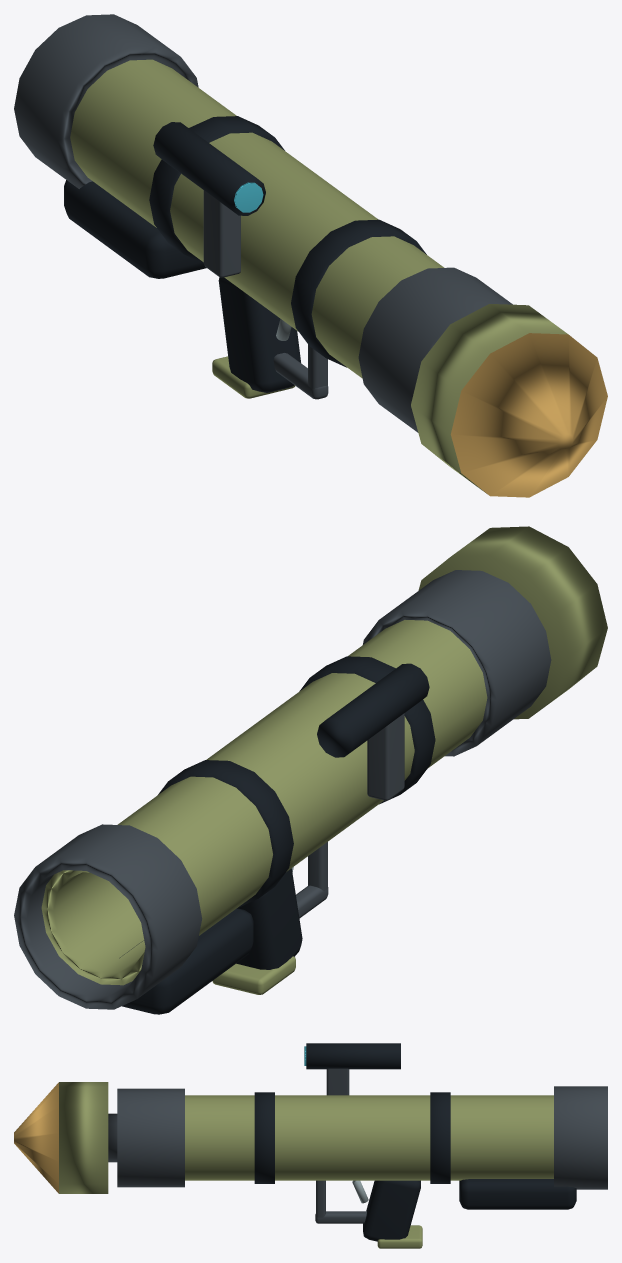
The model's file is alabong.glb.
3 renders of one model, top to bottom at view 1: azimuth 30°, elevation 25°; view 2: azimuth 150°, elevation 25°; view 3: azimuth 270°, elevation 25°, orthographic. The views are drawn at different scales.
Visible parts, largest first — view 1: alabong_alabong painted furniture, alabong_Cerakote graphite, alabong_Recesses and rubber, alabong_Warm brass details, alabong_Optic blue glass; view 2: alabong_alabong painted furniture, alabong_Cerakote graphite, alabong_Recesses and rubber; view 3: alabong_alabong painted furniture, alabong_Cerakote graphite, alabong_Recesses and rubber, alabong_Warm brass details.
Boxes of the visible parts, left/top/right/bottom form: alabong_alabong painted furniture: left=70, top=59, right=568, bottom=494; alabong_Cerakote graphite: left=14, top=14, right=512, bottom=432; alabong_Recesses and rubber: left=64, top=116, right=426, bottom=392; alabong_Warm brass details: left=450, top=333, right=607, bottom=497; alabong_Optic blue glass: left=234, top=182, right=263, bottom=212; alabong_alabong painted furniture: left=41, top=526, right=607, bottom=994; alabong_Cerakote graphite: left=14, top=570, right=551, bottom=1009; alabong_Recesses and rubber: left=119, top=656, right=435, bottom=1014; alabong_alabong painted furniture: left=59, top=1082, right=553, bottom=1248; alabong_Cerakote graphite: left=108, top=1068, right=607, bottom=1223; alabong_Recesses and rubber: left=254, top=1043, right=576, bottom=1241; alabong_Warm brass details: left=14, top=1082, right=58, bottom=1193.
Size of the model in its own units: 0.3266 by 0.4882 by 1.52.
